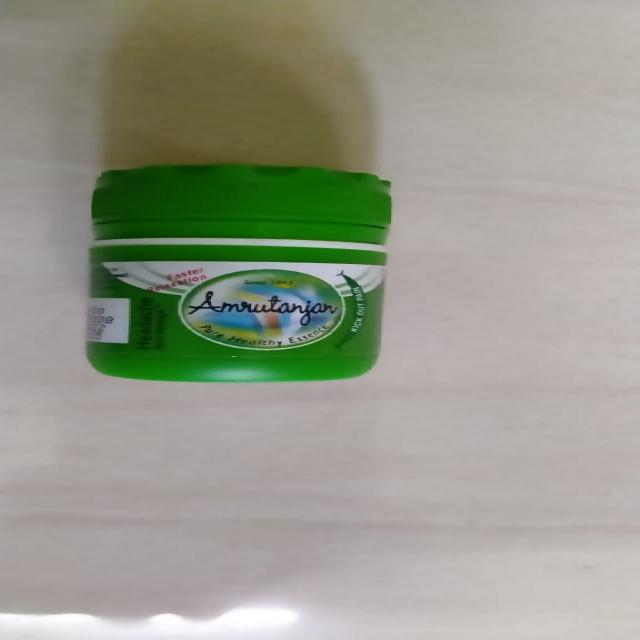eucalyptus oil: (85, 160, 406, 385)
